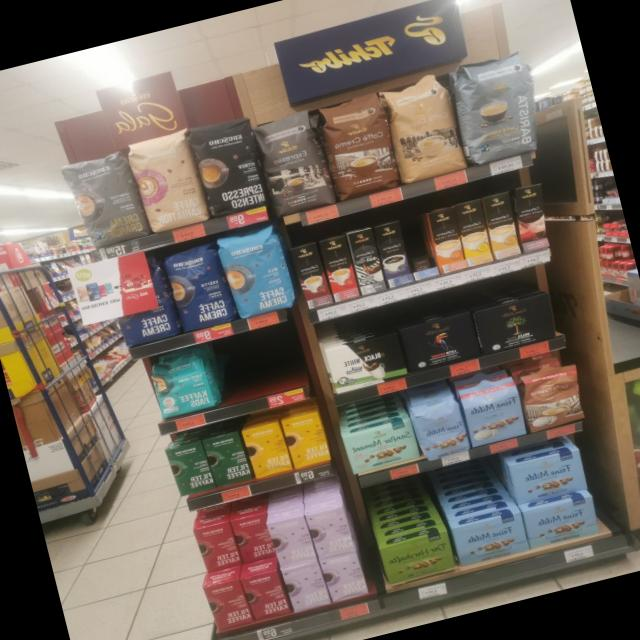BM Gemahlen: (472, 292, 560, 356)
BW Gemahlen: (321, 331, 409, 394)
Barista CC: (448, 46, 550, 167)
CC Mild: (381, 69, 468, 184)
CC Vollmundig: (516, 362, 590, 434)
CC Vollmundig 36 Pads: (314, 89, 402, 201)
Empty Shelf: (400, 212, 440, 272)
Espresso Aromatisch: (252, 106, 334, 218)
FM 36 Pads: (456, 374, 529, 449)
FM Bohne: (409, 396, 471, 462)
FM Gemahlen: (520, 492, 602, 550), (507, 447, 589, 505), (450, 510, 530, 568)
Herzhatfe Mundig: (378, 529, 458, 587)
LG Gemahlen: (398, 310, 482, 374)
SM Gemahlen: (340, 417, 420, 474)
Simo CC Colombia: (513, 182, 549, 252)
Simo CCMild bigpack: (454, 197, 496, 267)
Simo CCVollmundig bigpack: (426, 208, 468, 274)
Simo Decaff: (479, 190, 524, 260)
Simo Es Brazil: (318, 234, 360, 302)
Simo Es Caramel: (290, 242, 331, 310)
Simo Es Elegant: (347, 227, 387, 296)
Simo Es Kraft: (372, 220, 414, 288)
